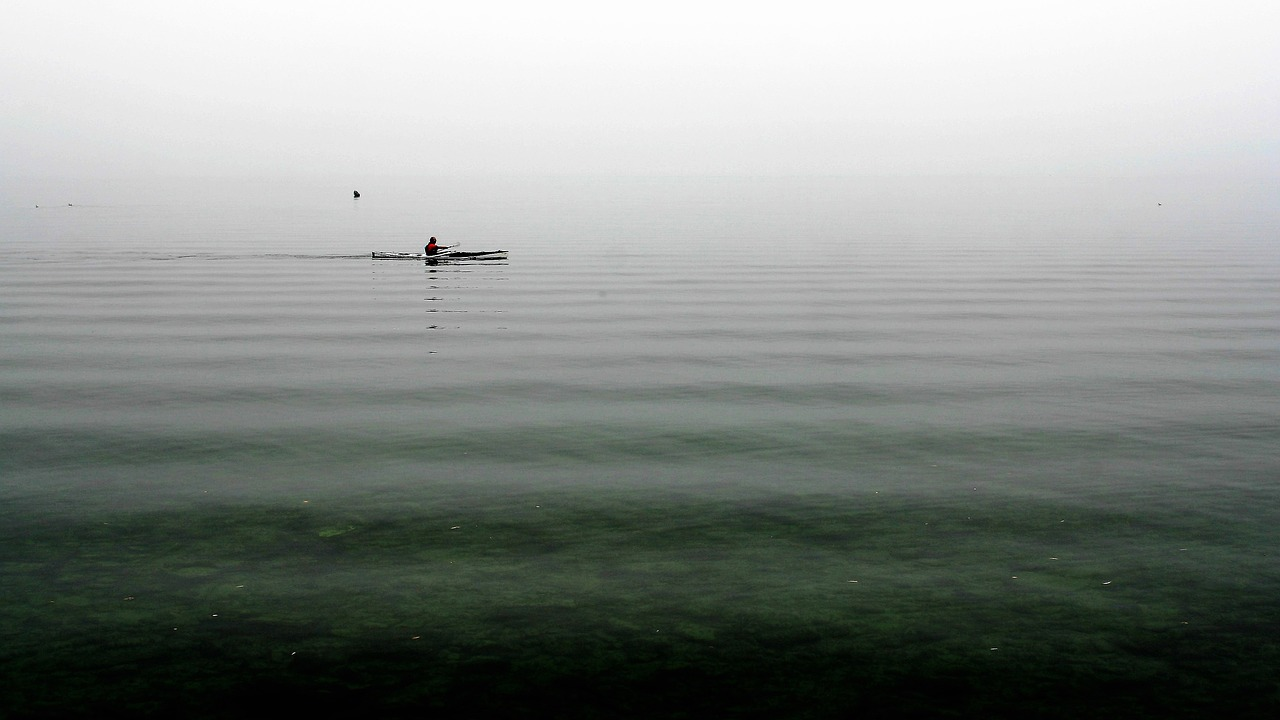kayak: (370, 248, 512, 261)
